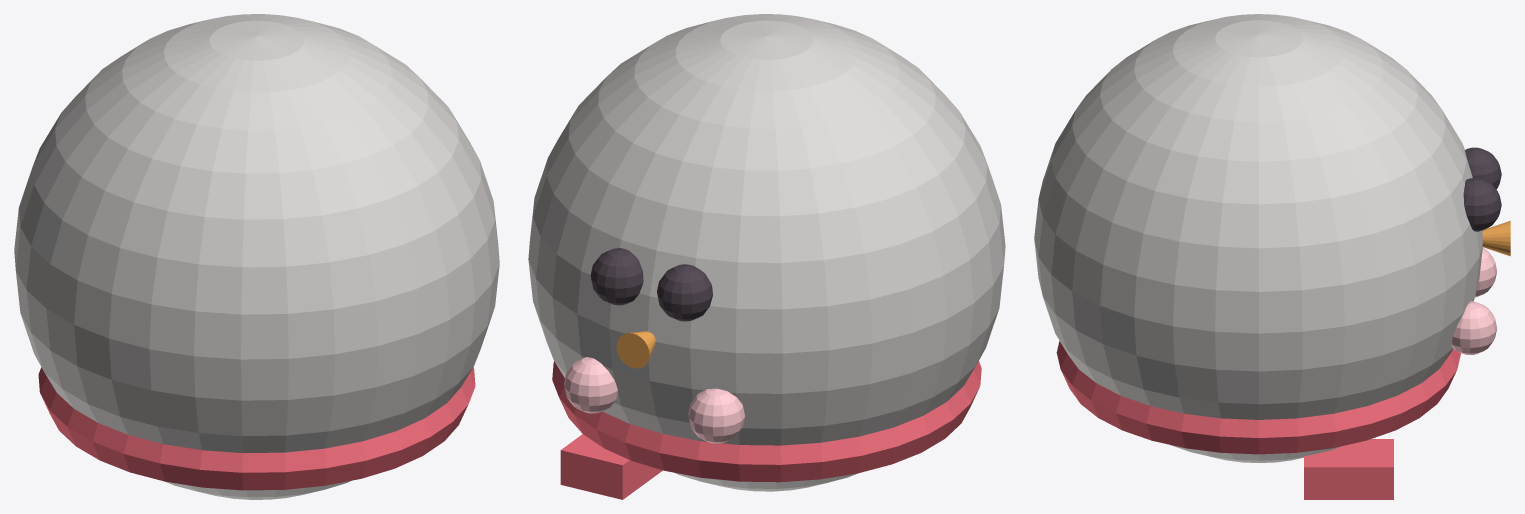
Rendered from snowball_brave.glb.
3 views of the same model, side by side, from view 1: azimuth 30°, elevation 25°; view 2: azimuth 150°, elevation 25°; view 3: azimuth 270°, elevation 25° (orthographic). The views are drawn at different scales.
Parts seen in each view (by area): view 1: Sphere, Torus; view 2: Sphere, Torus, Cube, Sphere.001, Sphere.003, Sphere.002, Sphere.004, Cone; view 3: Sphere, Torus, Cube, Sphere.004, Sphere.002, Sphere.001, Cone, Sphere.003.
Boxes of the visible parts, <box> form: Sphere: <box>14,14,499,499</box>; Torus: <box>38,367,475,490</box>; Sphere: <box>528,14,1005,491</box>; Torus: <box>552,361,981,482</box>; Cube: <box>560,434,662,499</box>; Sphere.001: <box>657,264,712,321</box>; Sphere.003: <box>688,388,744,443</box>; Sphere.002: <box>590,248,643,305</box>; Sphere.004: <box>564,357,617,413</box>; Cone: <box>616,331,655,368</box>; Sphere: <box>1034,14,1482,462</box>; Torus: <box>1056,341,1460,454</box>; Cube: <box>1304,439,1393,499</box>; Sphere.004: <box>1451,301,1497,354</box>; Sphere.002: <box>1463,178,1501,231</box>; Sphere.001: <box>1465,147,1501,189</box>; Cone: <box>1482,221,1510,256</box>; Sphere.003: <box>1475,248,1497,297</box>.
Size of the model in its own units: 1 by 1 by 1.06.
